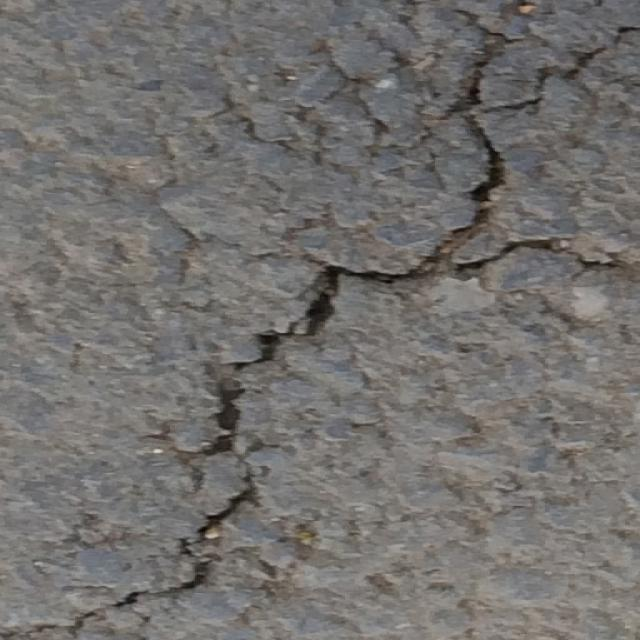crack: (7, 8, 630, 635)
